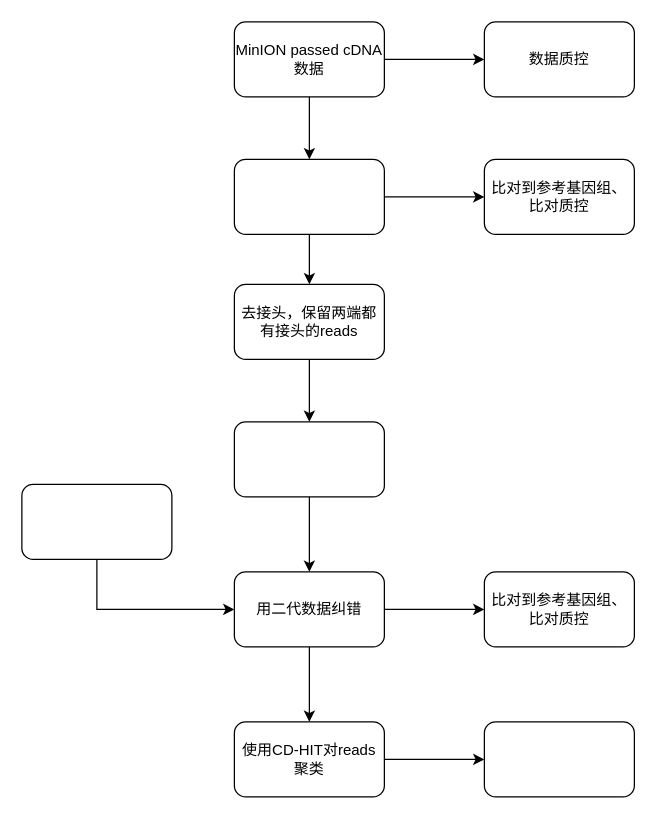
Some shapes in this 656 by 819 pixel diagram are drawn without their labels. The shapes that lost their labels are listed below. From the top down, each one's centre as x and y in pixels, then its label:
At pixel 308 196: "canu 纠错".
At pixel 308 459: "去ploy A，保留有ploy A的reads，并调整链的方向".
At pixel 96 521: "二代数据".
At pixel 558 759: "统计聚类后reads信息".
